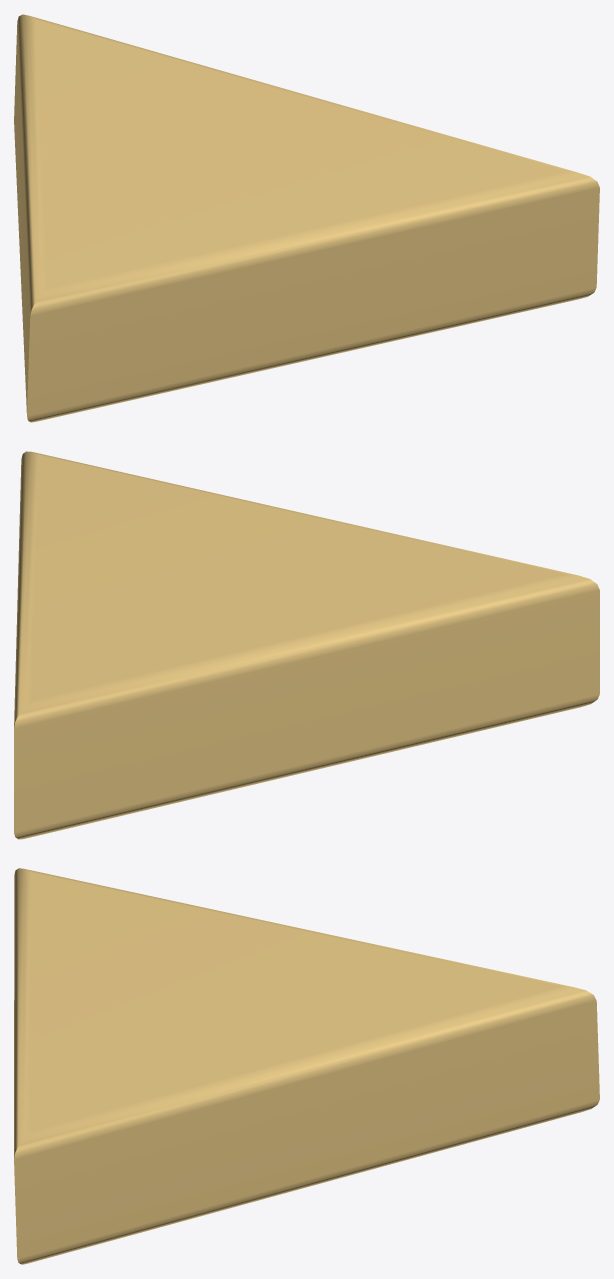
Rendered from DirectionSelector.fbx.
3 renders of one model, top to bottom at view 1: azimuth 30°, elevation 25°; view 2: azimuth 150°, elevation 25°; view 3: azimuth 270°, elevation 25°, orthographic. The views are drawn at different scales.
Parts seen in each view (by area): view 1: pCube1; view 2: pCube1; view 3: pCube1.
Part boxes in pixels (x1,y1,x2,y2): pCube1: (14, 14, 599, 422); pCube1: (14, 451, 599, 839); pCube1: (14, 868, 599, 1264).
Size of the model in its own units: 0.7905 by 0.1969 by 0.7109.
